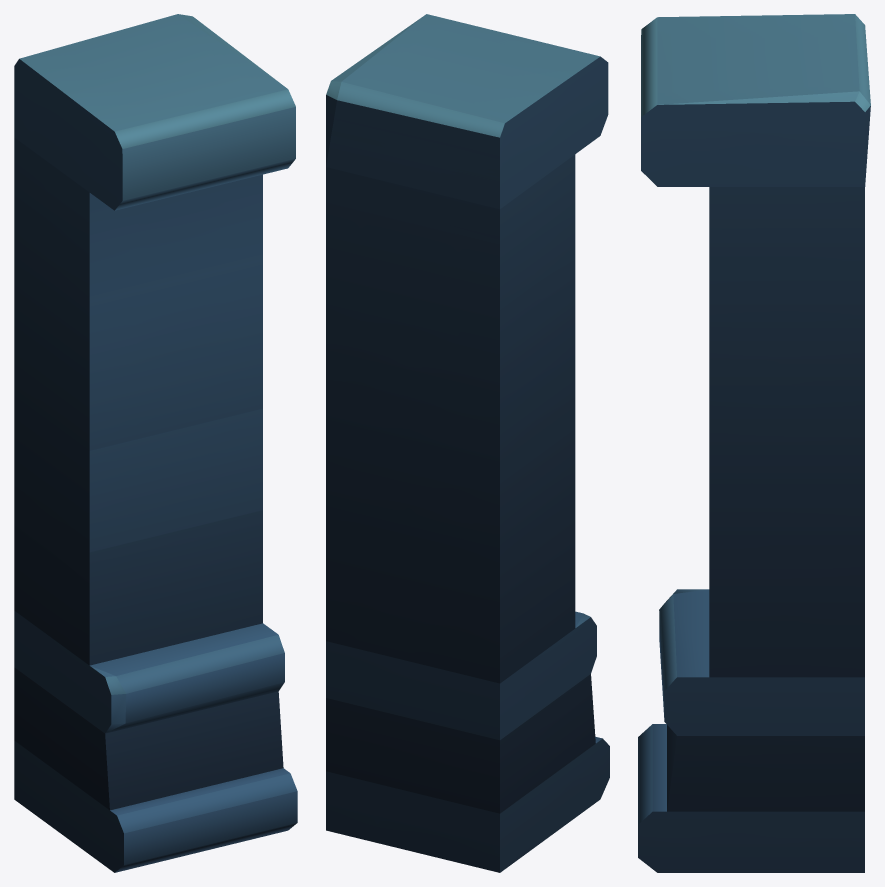
File: wall_element_tileable_1meters.fbx
3 renders of one model, left to right at view 1: azimuth 30°, elevation 25°; view 2: azimuth 150°, elevation 25°; view 3: azimuth 270°, elevation 25°, orthographic. The views are drawn at different scales.
Parts seen in each view (by area): view 1: wall_element_tileable_1meters; view 2: wall_element_tileable_1meters; view 3: wall_element_tileable_1meters.
Boxes of the visible parts, left/top/right/bottom form: wall_element_tileable_1meters: left=14, top=14, right=297, bottom=872; wall_element_tileable_1meters: left=326, top=14, right=609, bottom=872; wall_element_tileable_1meters: left=638, top=14, right=870, bottom=872.
Bounding box in the file's own units: 100 × 412 × 112.
